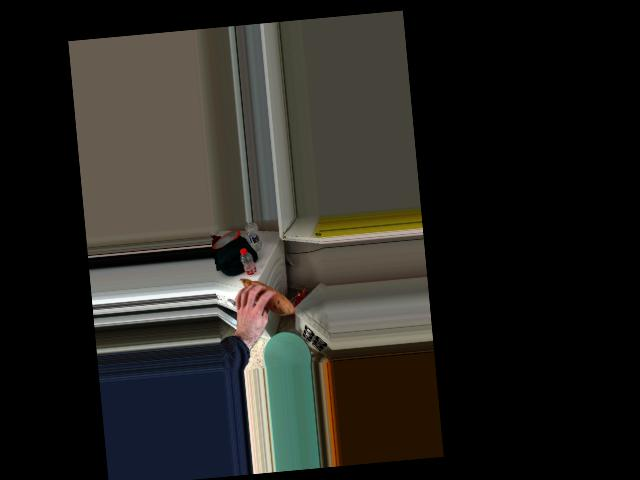sweet_potato: (236, 276, 291, 318)
